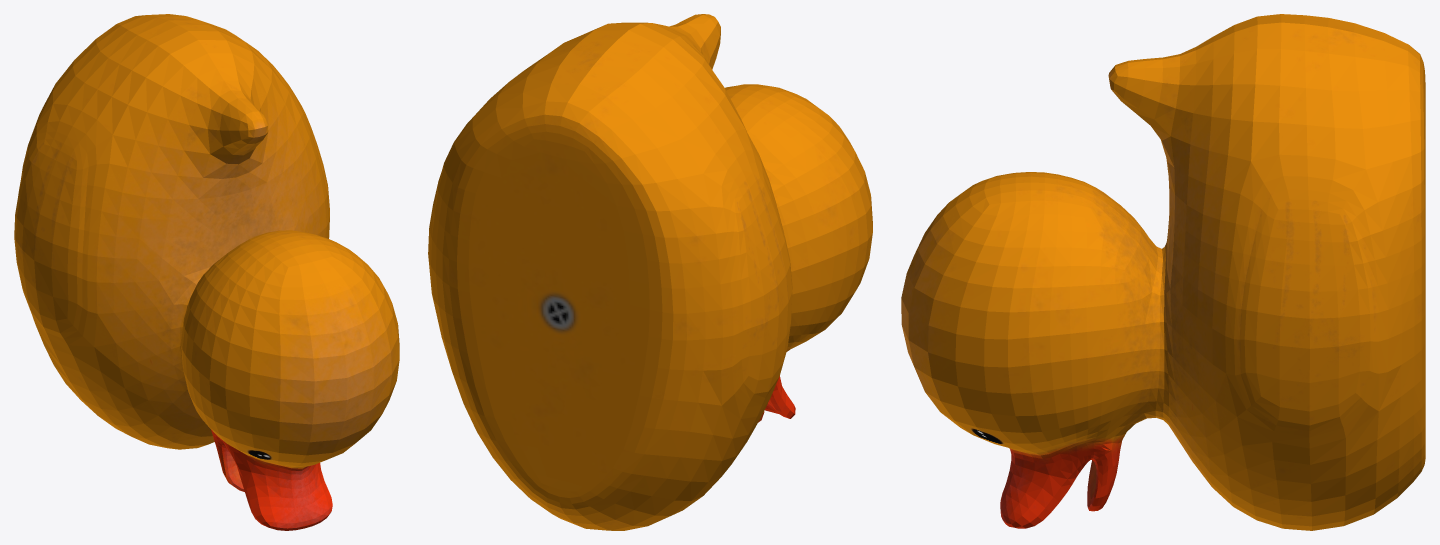
The model's file is toy_duck.obj.
The picture shows the model from 3 angles, left to right: view 1: azimuth 30°, elevation 25°; view 2: azimuth 150°, elevation 25°; view 3: azimuth 270°, elevation 25°; orthographic projection. The views are drawn at different scales.
Visible parts, largest first — view 1: rubberduck; view 2: rubberduck; view 3: rubberduck.
Part boxes in pixels (x1,y1,x2,y2): rubberduck: (14,14,399,530); rubberduck: (428,14,872,530); rubberduck: (901,14,1425,530).
Bounding box in the file's own units: 0.1196 × 0.1681 × 0.16.
Materials: 1 (1 with a texture image).
